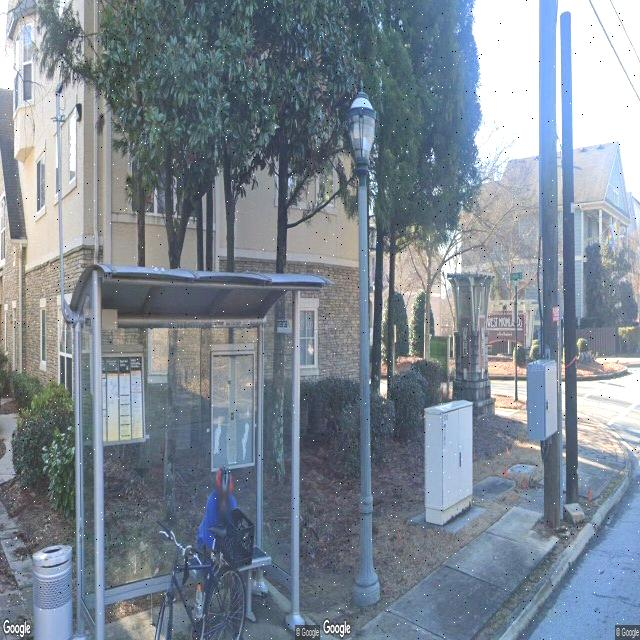seating: (184, 548, 274, 630)
shelter: (62, 261, 334, 640)
trash_can: (30, 544, 74, 640)
